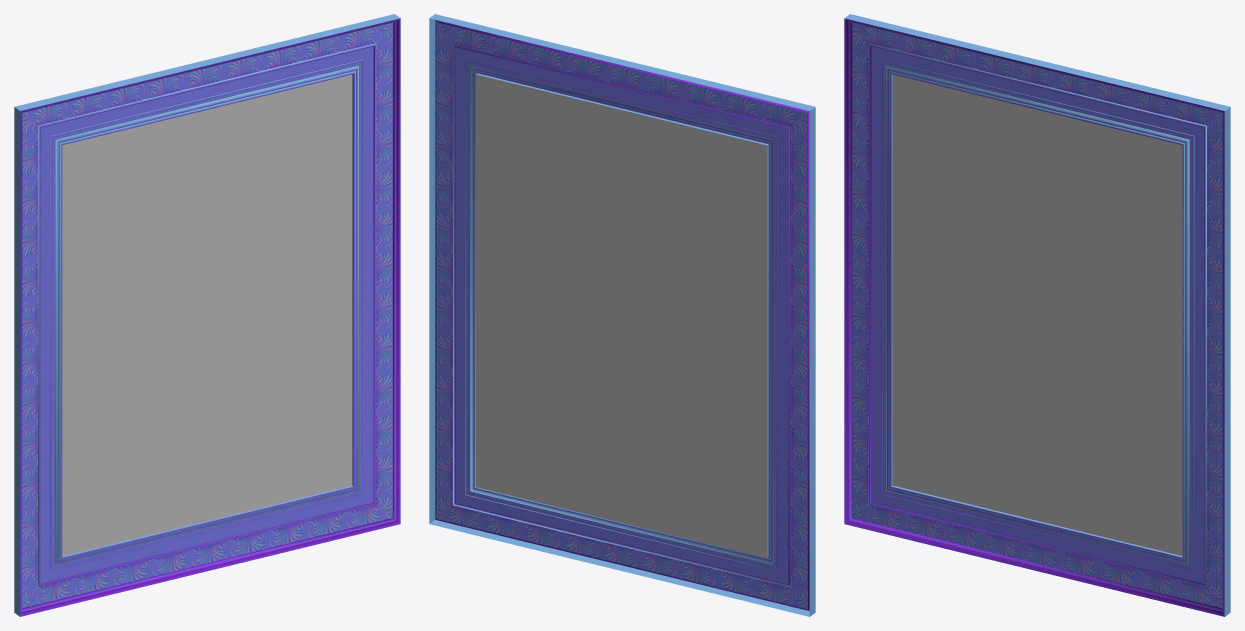
3 views of the same model, side by side, from view 1: azimuth 30°, elevation 25°; view 2: azimuth 150°, elevation 25°; view 3: azimuth 330°, elevation 25° (orthographic).
Parts seen in each view (by area): view 1: _09_11, _09_11_frame; view 2: _09_11, _09_11_frame; view 3: _09_11, _09_11_frame.
Boxes of the visible parts, x1=… form: _09_11: x1=62, y1=74, x2=352, y2=555; _09_11_frame: x1=14, y1=14, x2=400, y2=616; _09_11: x1=476, y1=74, x2=767, y2=557; _09_11_frame: x1=429, y1=14, x2=815, y2=616; _09_11: x1=892, y1=74, x2=1182, y2=555; _09_11_frame: x1=844, y1=14, x2=1230, y2=616.
Size of the model in its own units: 111 by 141 by 2.97.
